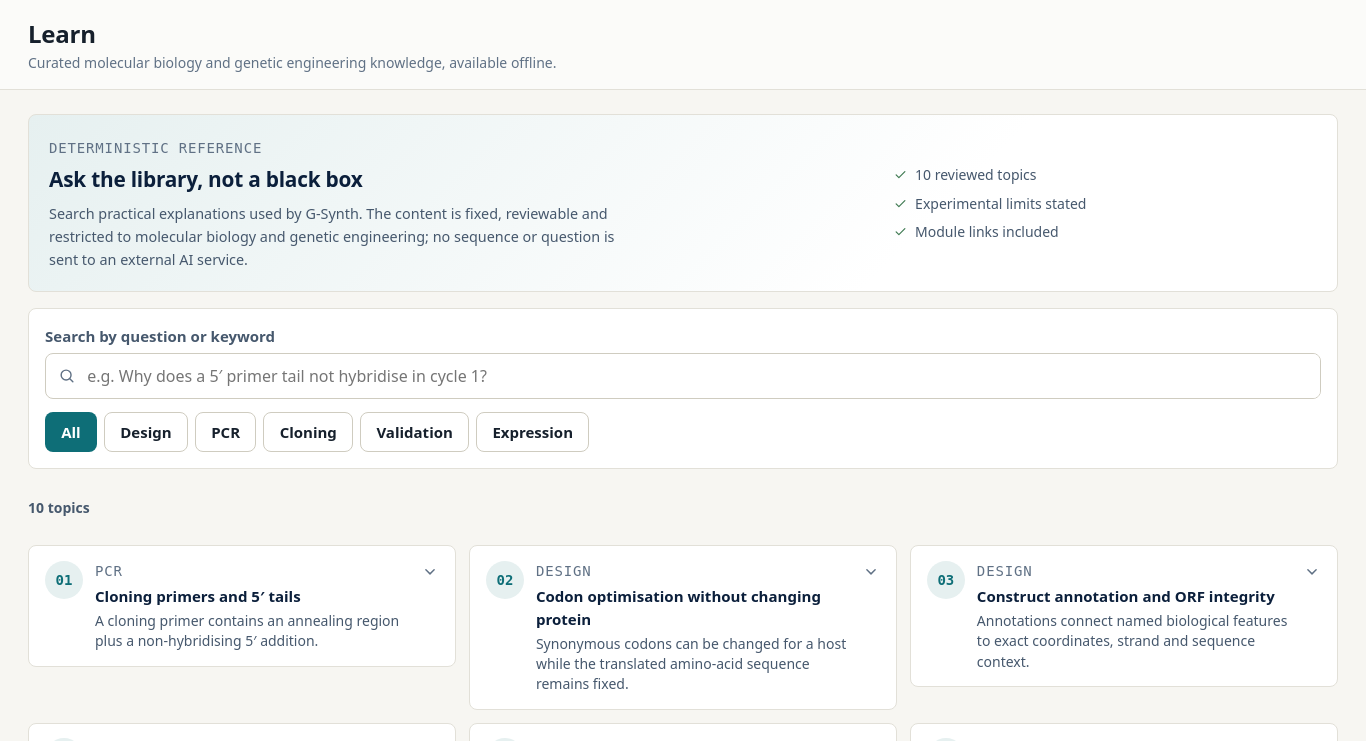
Test: Learn deterministic knowledge library › filters to validation topics and can reset
The width and height of the screenshot is (1366, 741).
Click the button "Validation". click: click(415, 432)
box: [360,412,469,452]
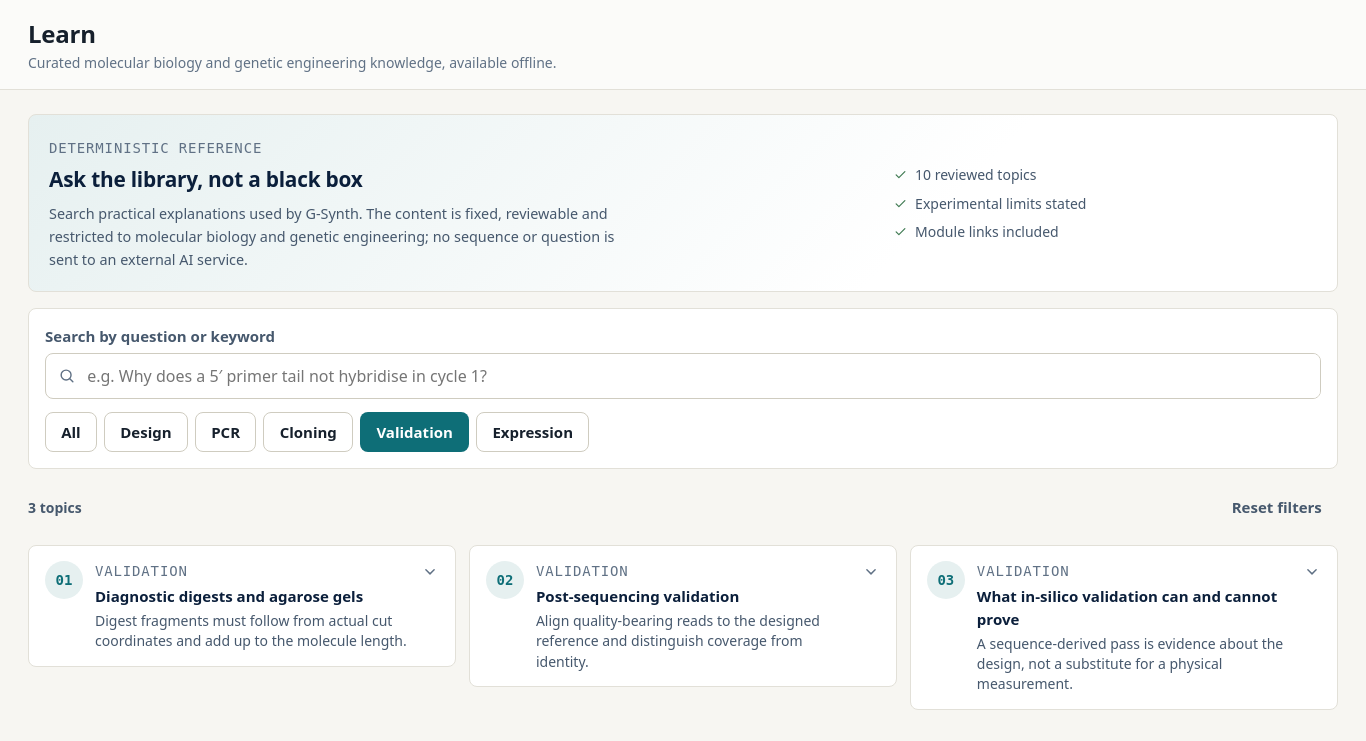
Expected: the text "Diagnostic digests and agarose gels" is shown, [95,585,409,608]
Result: the heading "Codon optimisation without changing protein" is gone
Click the button "Reset filters". click: click(1277, 507)
box: [1216,485,1338,529]
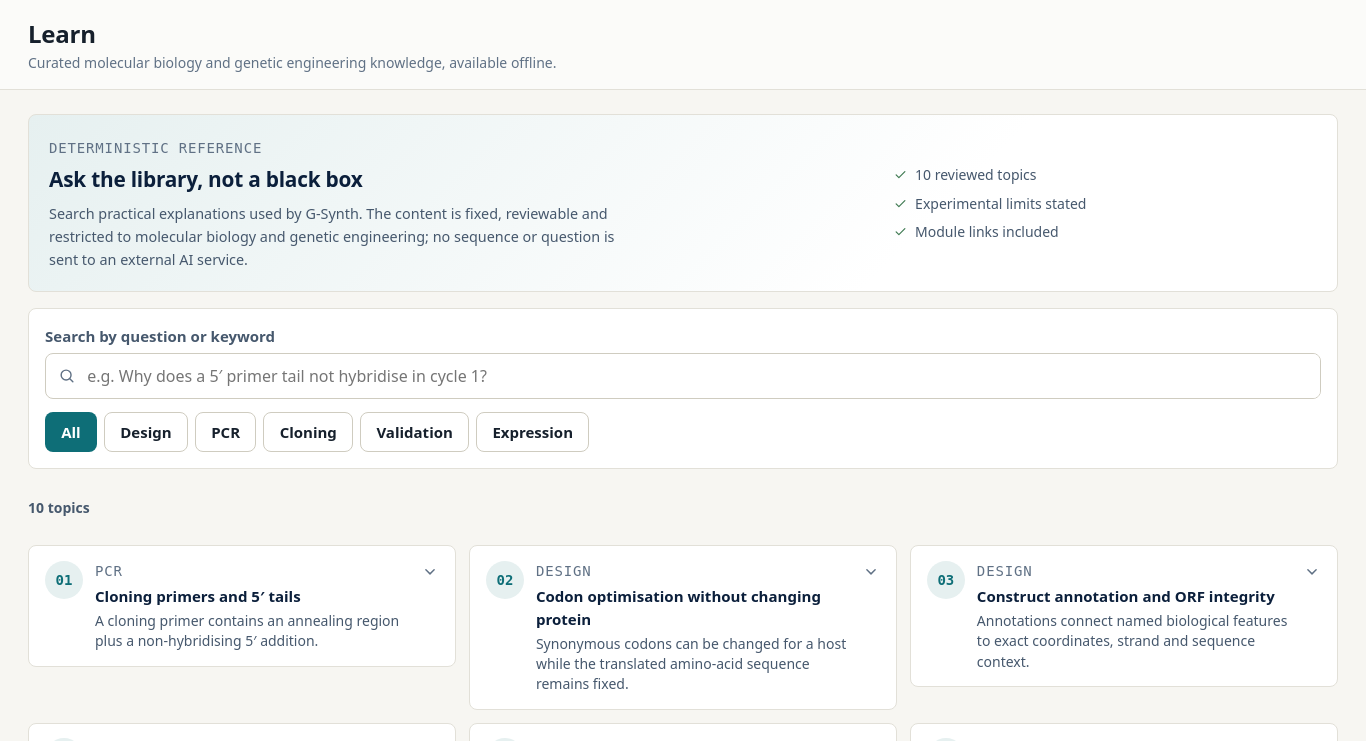
Result: the text "Codon optimisation without changing protein" is shown at [536,585,850,630]
